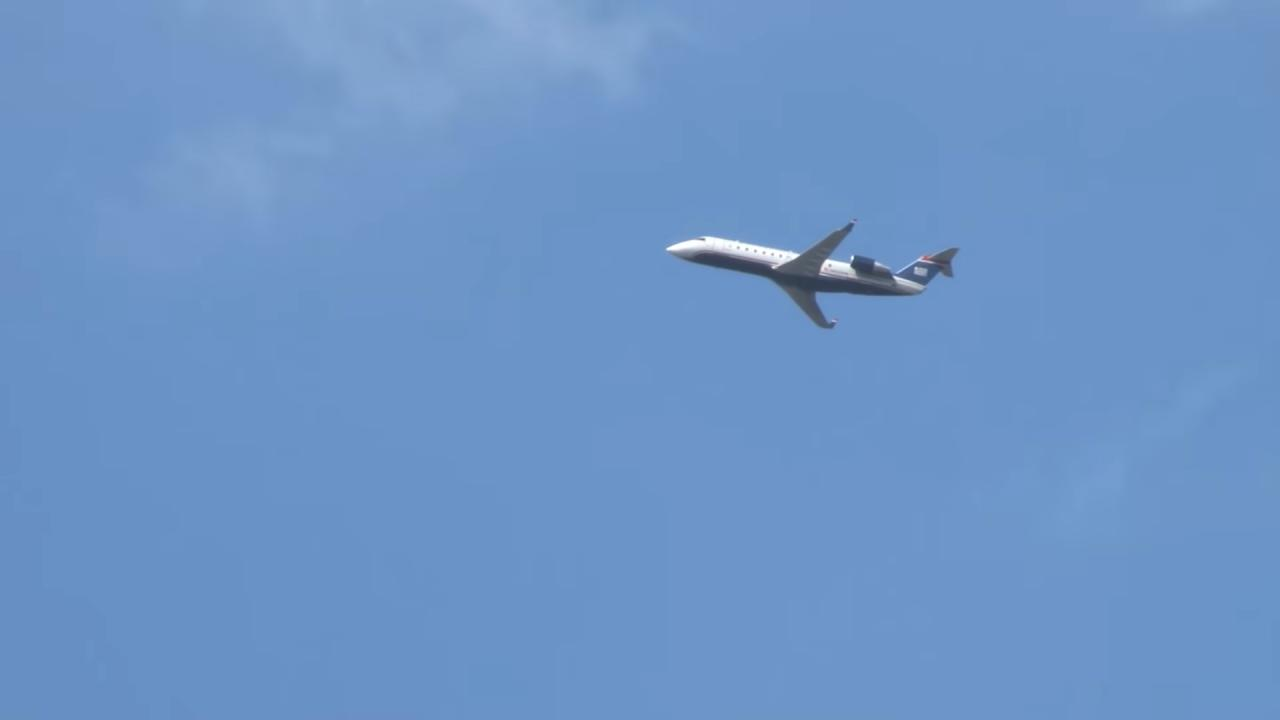Airplane: (654, 210, 969, 346)
